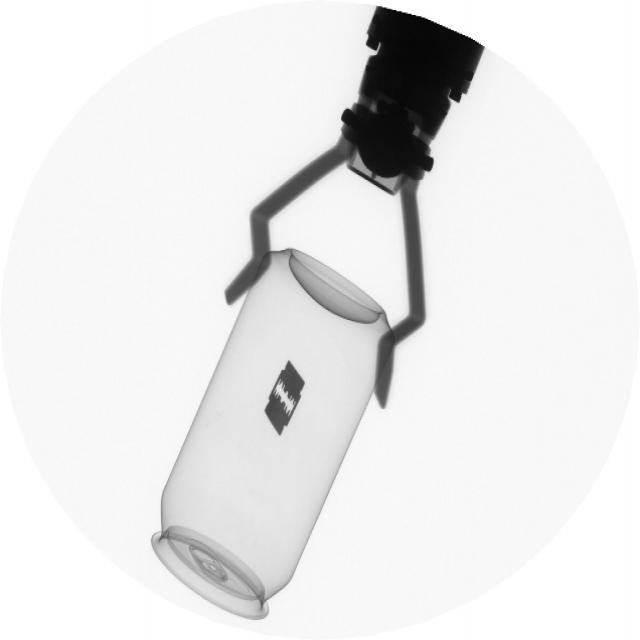BLADE: (262, 354, 312, 446)
